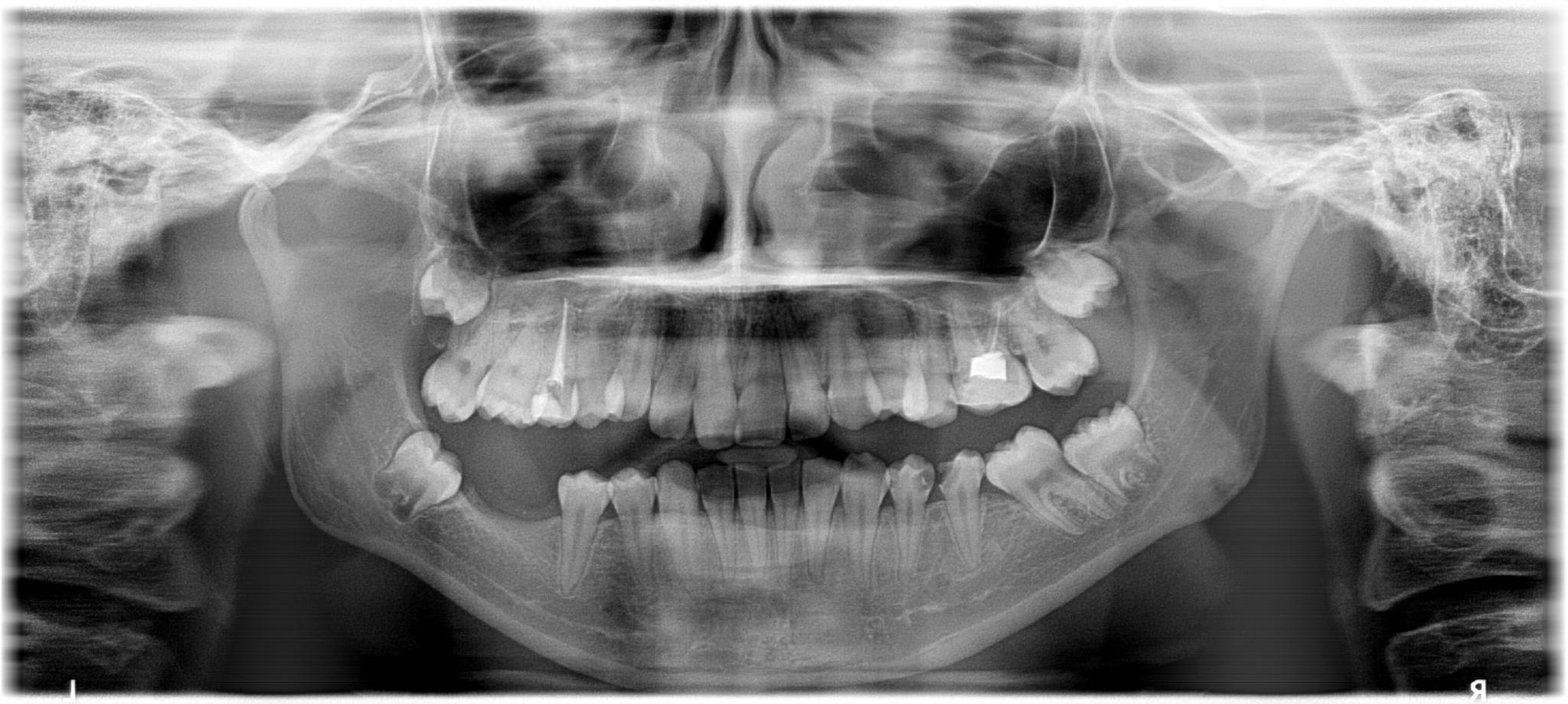Premolars: (497, 229, 1469, 673), (483, 247, 1397, 695), (429, 244, 1267, 694), (487, 221, 1441, 602), (522, 199, 1542, 555), (564, 145, 1568, 402), (242, 177, 745, 460)
